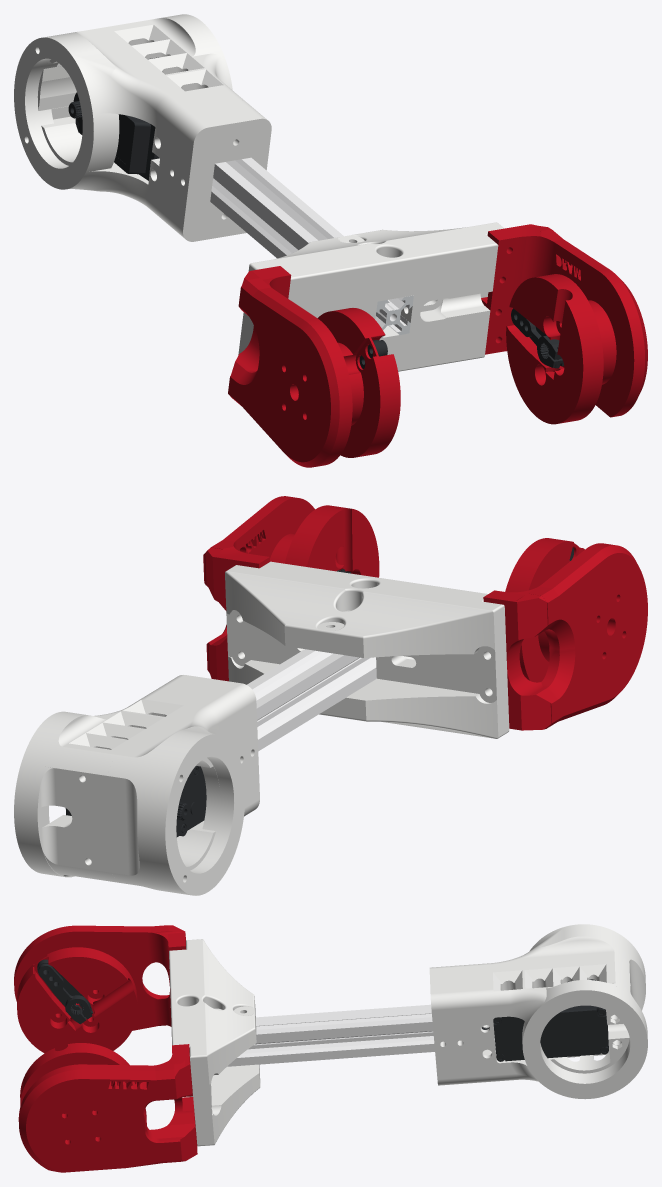
Rendered from Link2_UpperArm.dae.
3 renders of one model, top to bottom at view 1: azimuth 30°, elevation 25°; view 2: azimuth 150°, elevation 25°; view 3: azimuth 270°, elevation 25°, orthographic. The views are drawn at different scales.
Parts seen in each view (by area): view 1: Link2_UpperArm; view 2: Link2_UpperArm; view 3: Link2_UpperArm.
Boxes of the visible parts, box(x1,y1,x2,y2) form: Link2_UpperArm: box(14, 14, 647, 467); Link2_UpperArm: box(14, 496, 647, 895); Link2_UpperArm: box(14, 924, 647, 1172).
Size of the model in its own units: 0.1793 by 0.3653 by 0.0999.
